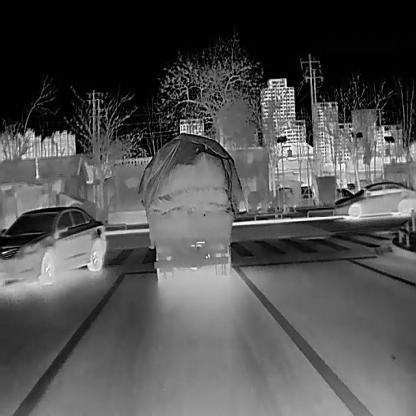car: (138, 132, 244, 280), (0, 206, 106, 285), (332, 180, 416, 218), (311, 175, 336, 206), (299, 185, 314, 199)
